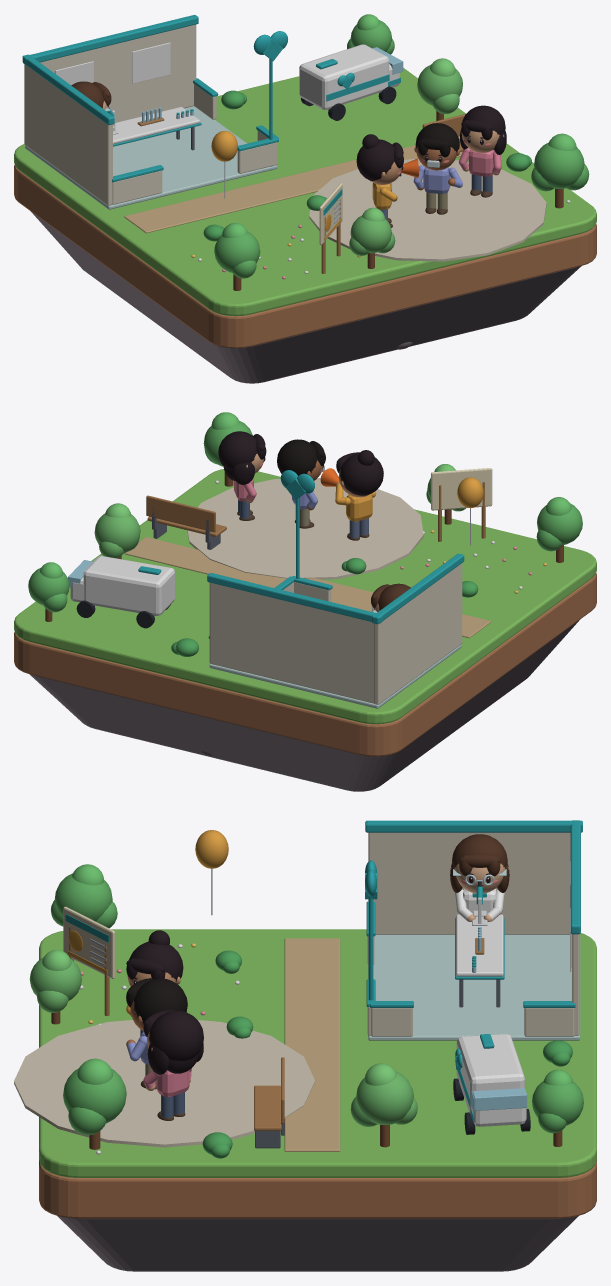
Rendered from diorama-wabah.glb.
3 renders of one model, top to bottom at view 1: azimuth 30°, elevation 25°; view 2: azimuth 150°, elevation 25°; view 3: azimuth 270°, elevation 25°, orthographic. The views are drawn at different scales.
Parts seen in each view (by area): view 1: Static, Char_Resident2.001, Char_Resident1.001, Char_Communicator.001, Float_Balloon.001, Spin_Emblem.001, Char_Researcher.001; view 2: Static, Char_Communicator.001, Char_Resident2.001, Char_Resident1.001, Float_Balloon.001, Spin_Emblem.001, Char_Researcher.001; view 3: Static, Char_Resident2.001, Char_Researcher.001, Char_Resident1.001, Char_Communicator.001, Float_Balloon.001.
Boxes of the visible parts, left/top/right/bottom form: Static: left=14, top=14, right=596, bottom=383; Char_Resident2.001: left=459, top=105, right=506, bottom=197; Char_Resident1.001: left=413, top=123, right=462, bottom=214; Char_Communicator.001: left=356, top=134, right=403, bottom=227; Float_Balloon.001: left=211, top=131, right=237, bottom=198; Spin_Emblem.001: left=253, top=31, right=287, bottom=61; Char_Researcher.001: left=71, top=81, right=111, bottom=111; Static: left=14, top=412, right=596, bottom=791; Char_Communicator.001: left=335, top=450, right=383, bottom=540; Char_Resident2.001: left=218, top=431, right=266, bottom=520; Char_Resident1.001: left=277, top=439, right=325, bottom=528; Float_Balloon.001: left=457, top=477, right=483, bottom=545; Spin_Emblem.001: left=280, top=470, right=314, bottom=500; Char_Researcher.001: left=371, top=583, right=410, bottom=612; Static: left=14, top=820, right=596, bottom=1271; Char_Resident2.001: left=143, top=1009, right=203, bottom=1120; Char_Researcher.001: left=450, top=834, right=509, bottom=921; Char_Resident1.001: left=126, top=978, right=187, bottom=1089; Char_Communicator.001: left=126, top=930, right=183, bottom=1036; Float_Balloon.001: left=195, top=830, right=228, bottom=915.
Size of the model in its own units: 10 by 6.24 by 10.45.
